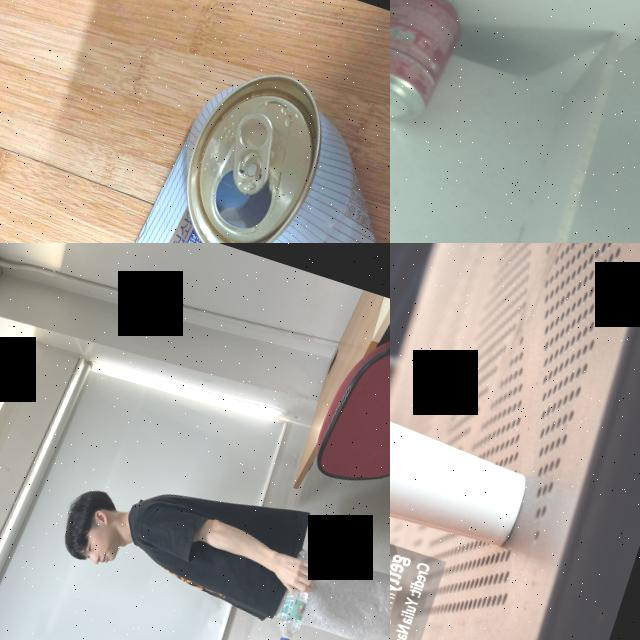bottle: (268, 545, 327, 640)
can: (390, 0, 480, 138)
cup: (390, 359, 541, 569)
